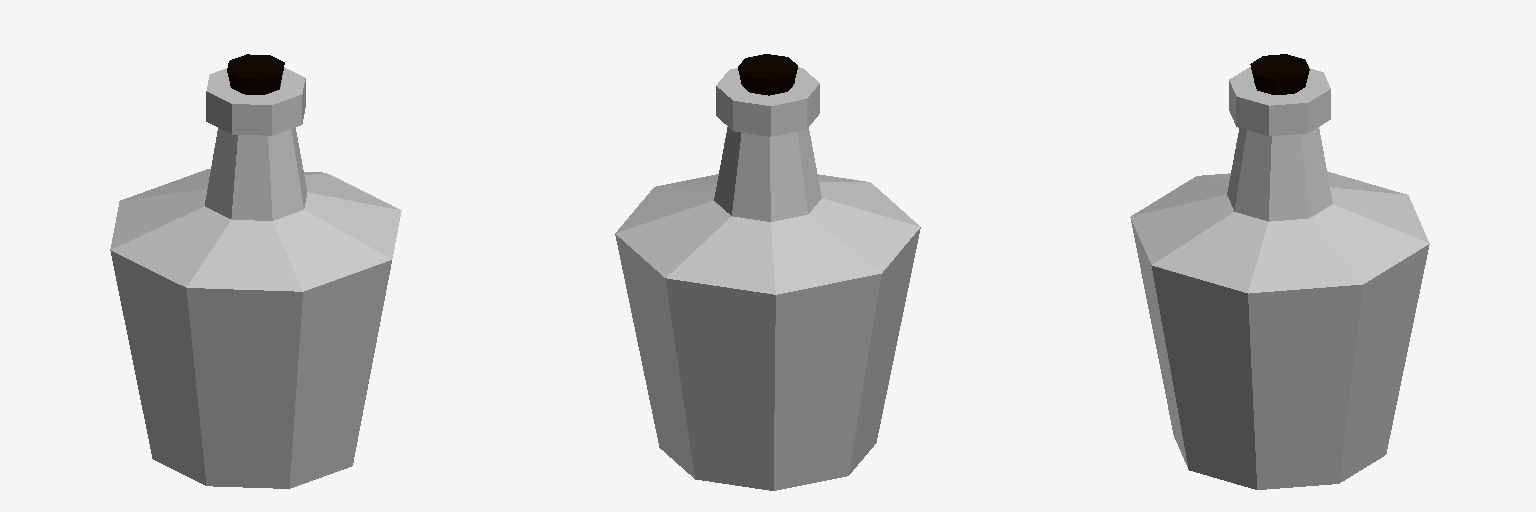
File: flask_1.obj
3 views of the same model, side by side, from view 1: azimuth 30°, elevation 25°; view 2: azimuth 150°, elevation 25°; view 3: azimuth 270°, elevation 25° (orthographic).
Visible parts, largest first — view 1: 24_Цилиндр.003; view 2: 24_Цилиндр.003; view 3: 24_Цилиндр.003.
Boxes of the visible parts, <box> form: 24_Цилиндр.003: <box>110,54,401,488</box>; 24_Цилиндр.003: <box>615,54,920,490</box>; 24_Цилиндр.003: <box>1130,54,1429,489</box>.
Bounding box in the file's own units: 0.5039 × 0.7029 × 0.5039.